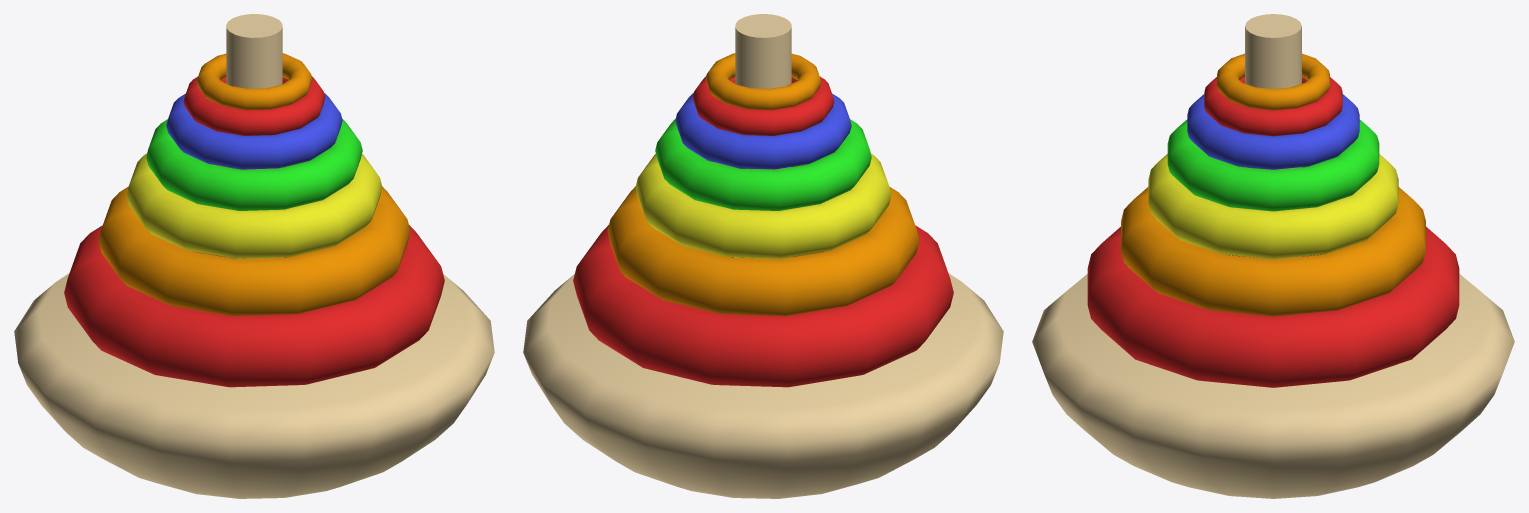
Rendered from StackingToy.fbx.
The picture shows the model from 3 angles, left to right: view 1: azimuth 30°, elevation 25°; view 2: azimuth 150°, elevation 25°; view 3: azimuth 270°, elevation 25°; orthographic projection.
Visible parts, largest first — view 1: pSphere2; view 2: pSphere2; view 3: pSphere2.
Part boxes in pixels (x1=…): pSphere2: x1=14, y1=14, x2=494, y2=498; pSphere2: x1=523, y1=14, x2=1003, y2=498; pSphere2: x1=1032, y1=14, x2=1514, y2=498.
Bounding box in the file's own units: 19.8 × 19.72 × 19.8.
